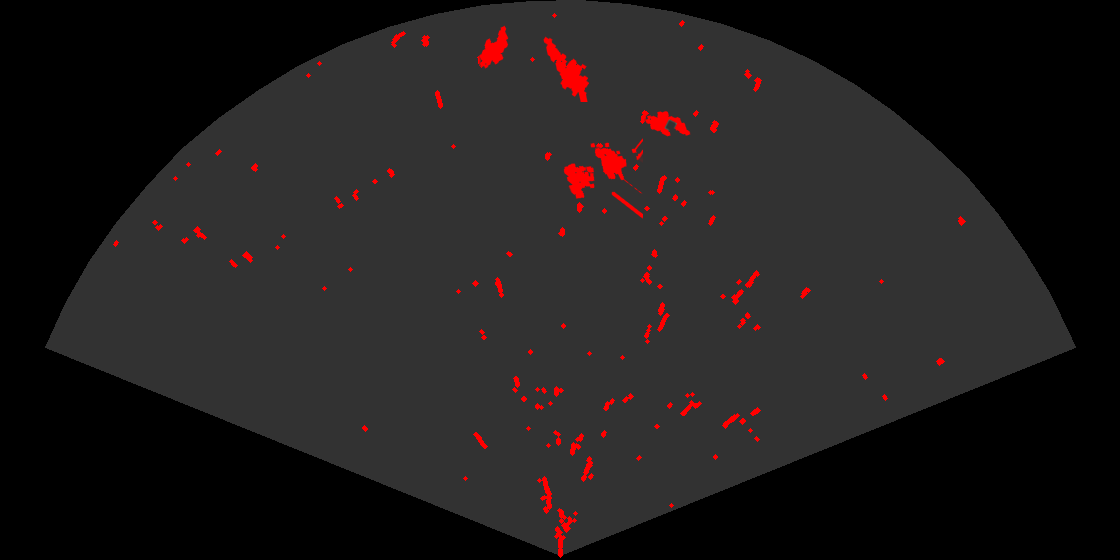AUV: (478, 24, 510, 70), (644, 109, 692, 138)
cage: (562, 137, 643, 220)
frogman: (542, 35, 591, 102)
